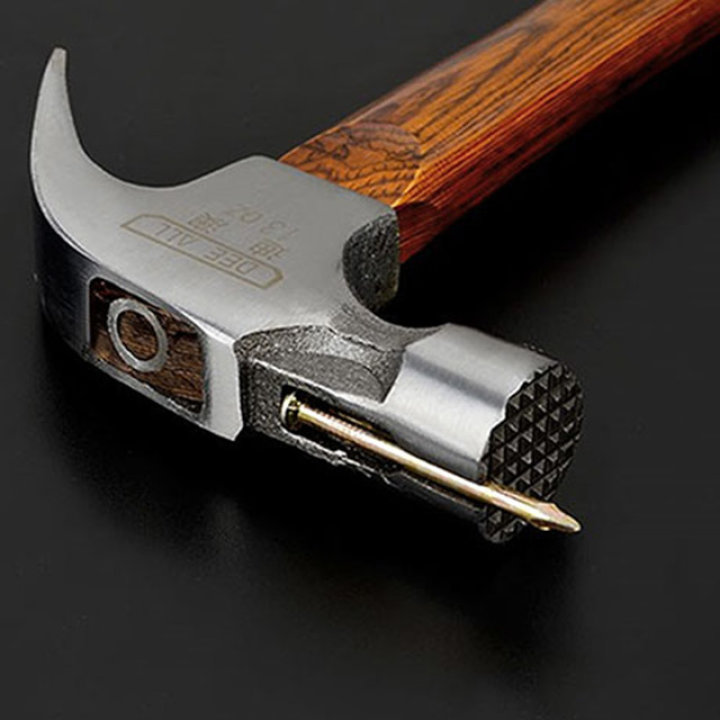hammer: (7, 6, 686, 571)
